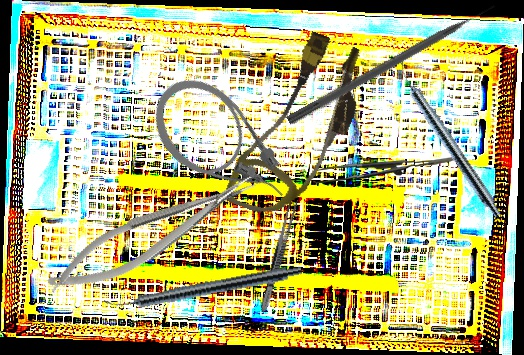Cannula: (222, 22, 377, 233), (136, 61, 303, 232)
Dressing Forceps: (258, 197, 299, 314)
Handpiece: (390, 58, 507, 221), (103, 260, 303, 316)
Needle Holder: (37, 165, 267, 306)
Pusher: (285, 1, 499, 128)
Tissue Forceps: (314, 154, 458, 186)
